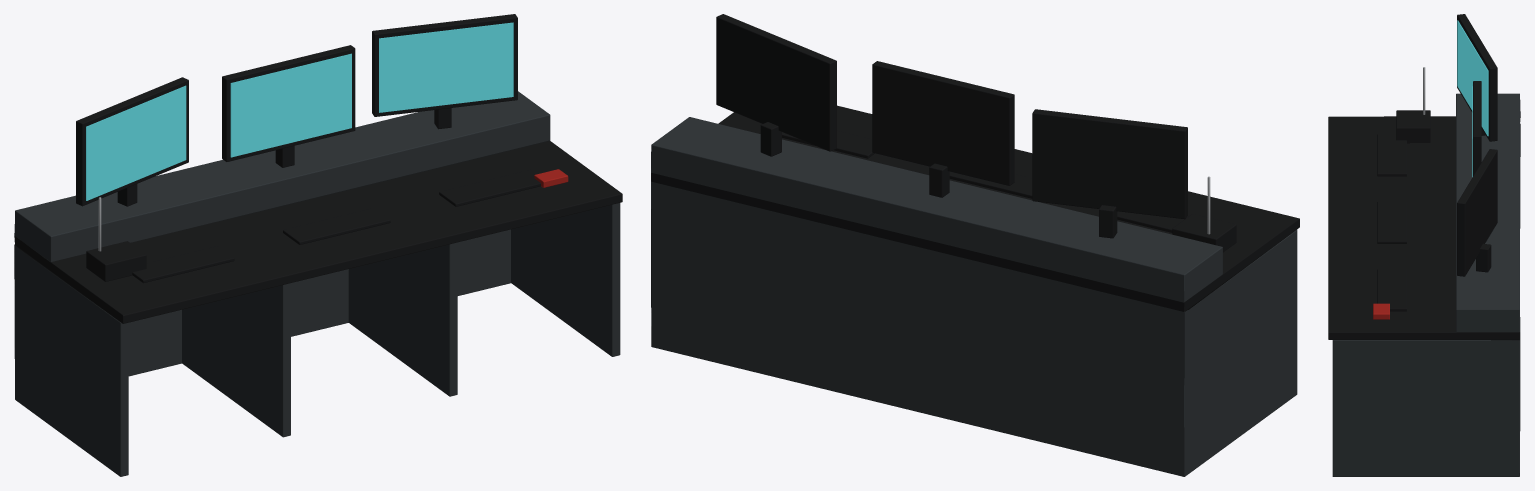
Rendered from PROP_Console_SecurityDesk.glb.
3 renders of one model, left to right at view 1: azimuth 30°, elevation 25°; view 2: azimuth 150°, elevation 25°; view 3: azimuth 270°, elevation 25°, orthographic. The views are drawn at different scales.
Parts seen in each view (by area): view 1: PROP_Console_SecurityDesk_Mesh, PROP_Console_SecurityDesk_Screens; view 2: PROP_Console_SecurityDesk_Mesh; view 3: PROP_Console_SecurityDesk_Mesh, PROP_Console_SecurityDesk_Screens.
Boxes of the visible parts, x1,y1,x2,y2 form: PROP_Console_SecurityDesk_Mesh: (14, 14, 622, 476); PROP_Console_SecurityDesk_Screens: (86, 22, 513, 200); PROP_Console_SecurityDesk_Mesh: (651, 14, 1299, 476); PROP_Console_SecurityDesk_Mesh: (1328, 14, 1520, 476); PROP_Console_SecurityDesk_Screens: (1457, 20, 1488, 177).
Size of what is drawn, in the model's own units: 2.4 by 1.35 by 0.903.
